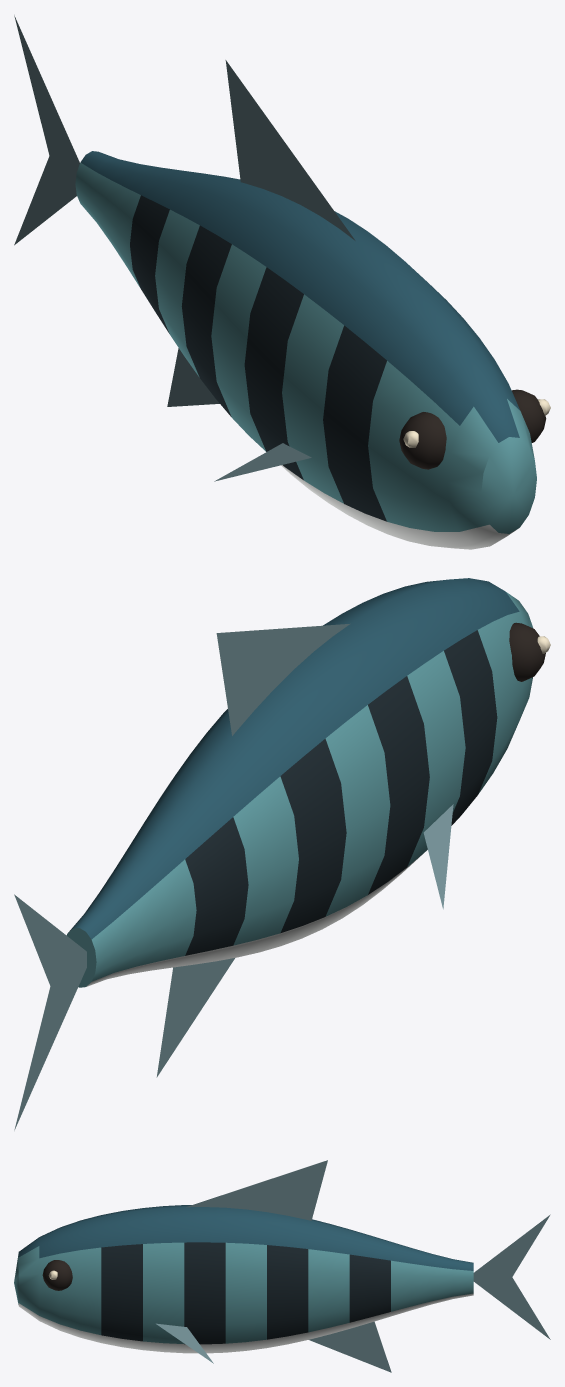
File: mackerel.fbx
3 views of the same model, one above another, from view 1: azimuth 30°, elevation 25°; view 2: azimuth 150°, elevation 25°; view 3: azimuth 270°, elevation 25° (orthographic). The views are drawn at different scales.
Parts seen in each view (by area): view 1: Fish_mackerel_EXP; view 2: Fish_mackerel_EXP; view 3: Fish_mackerel_EXP.
Boxes of the visible parts, x1,y1,x2,y2 form: Fish_mackerel_EXP: (14, 15, 550, 549); Fish_mackerel_EXP: (14, 578, 550, 1130); Fish_mackerel_EXP: (14, 1160, 550, 1372).
Size of the model in its own units: 0.1288 by 0.2065 by 0.4722.
